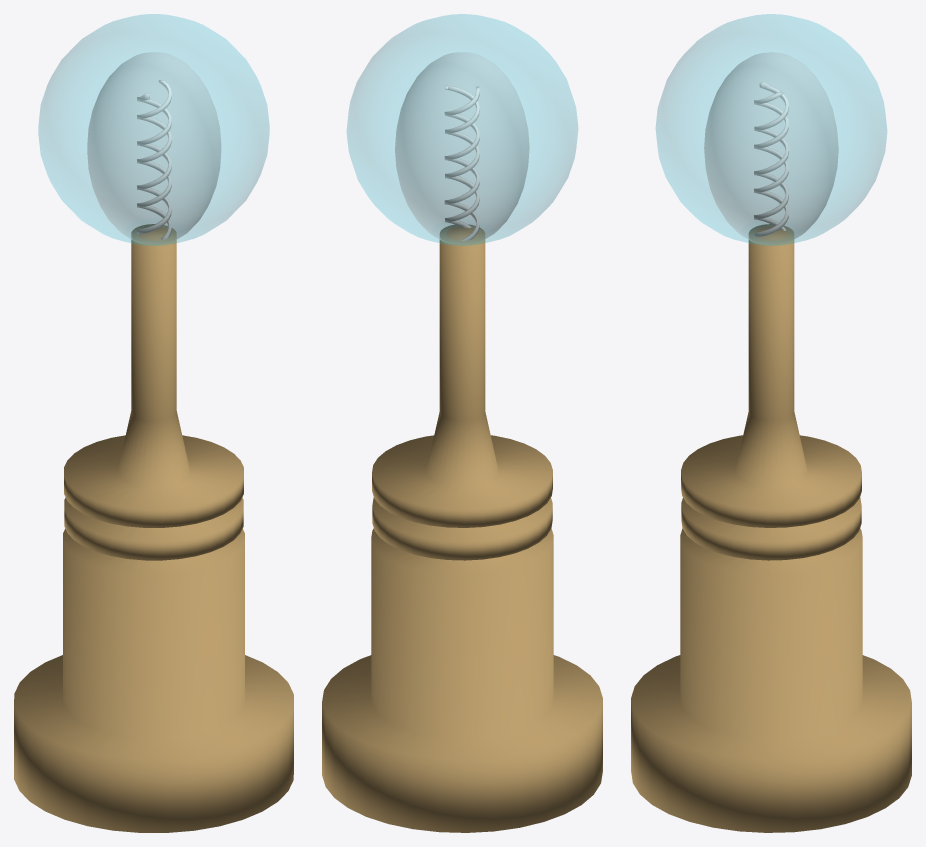
The model's file is Tesla.fbx.
3 renders of one model, left to right at view 1: azimuth 30°, elevation 25°; view 2: azimuth 150°, elevation 25°; view 3: azimuth 270°, elevation 25°, orthographic.
Visible parts, largest first — view 1: Tesla, Tesla.002, Tesla.003, Tesla.001; view 2: Tesla, Tesla.002, Tesla.003, Tesla.001; view 3: Tesla, Tesla.002, Tesla.003, Tesla.001.
Boxes of the visible parts, x1,y1,x2,y2 form: Tesla: [14, 224, 293, 832]; Tesla.002: [38, 14, 269, 245]; Tesla.003: [87, 52, 221, 244]; Tesla.001: [137, 80, 171, 239]; Tesla: [322, 224, 602, 832]; Tesla.002: [347, 14, 577, 245]; Tesla.003: [395, 52, 529, 244]; Tesla.001: [444, 85, 479, 240]; Tesla: [631, 224, 911, 832]; Tesla.002: [656, 14, 886, 245]; Tesla.003: [704, 52, 838, 244]; Tesla.001: [754, 82, 788, 237].
Bounding box in the file's own units: 3548 × 10444 × 3548.
